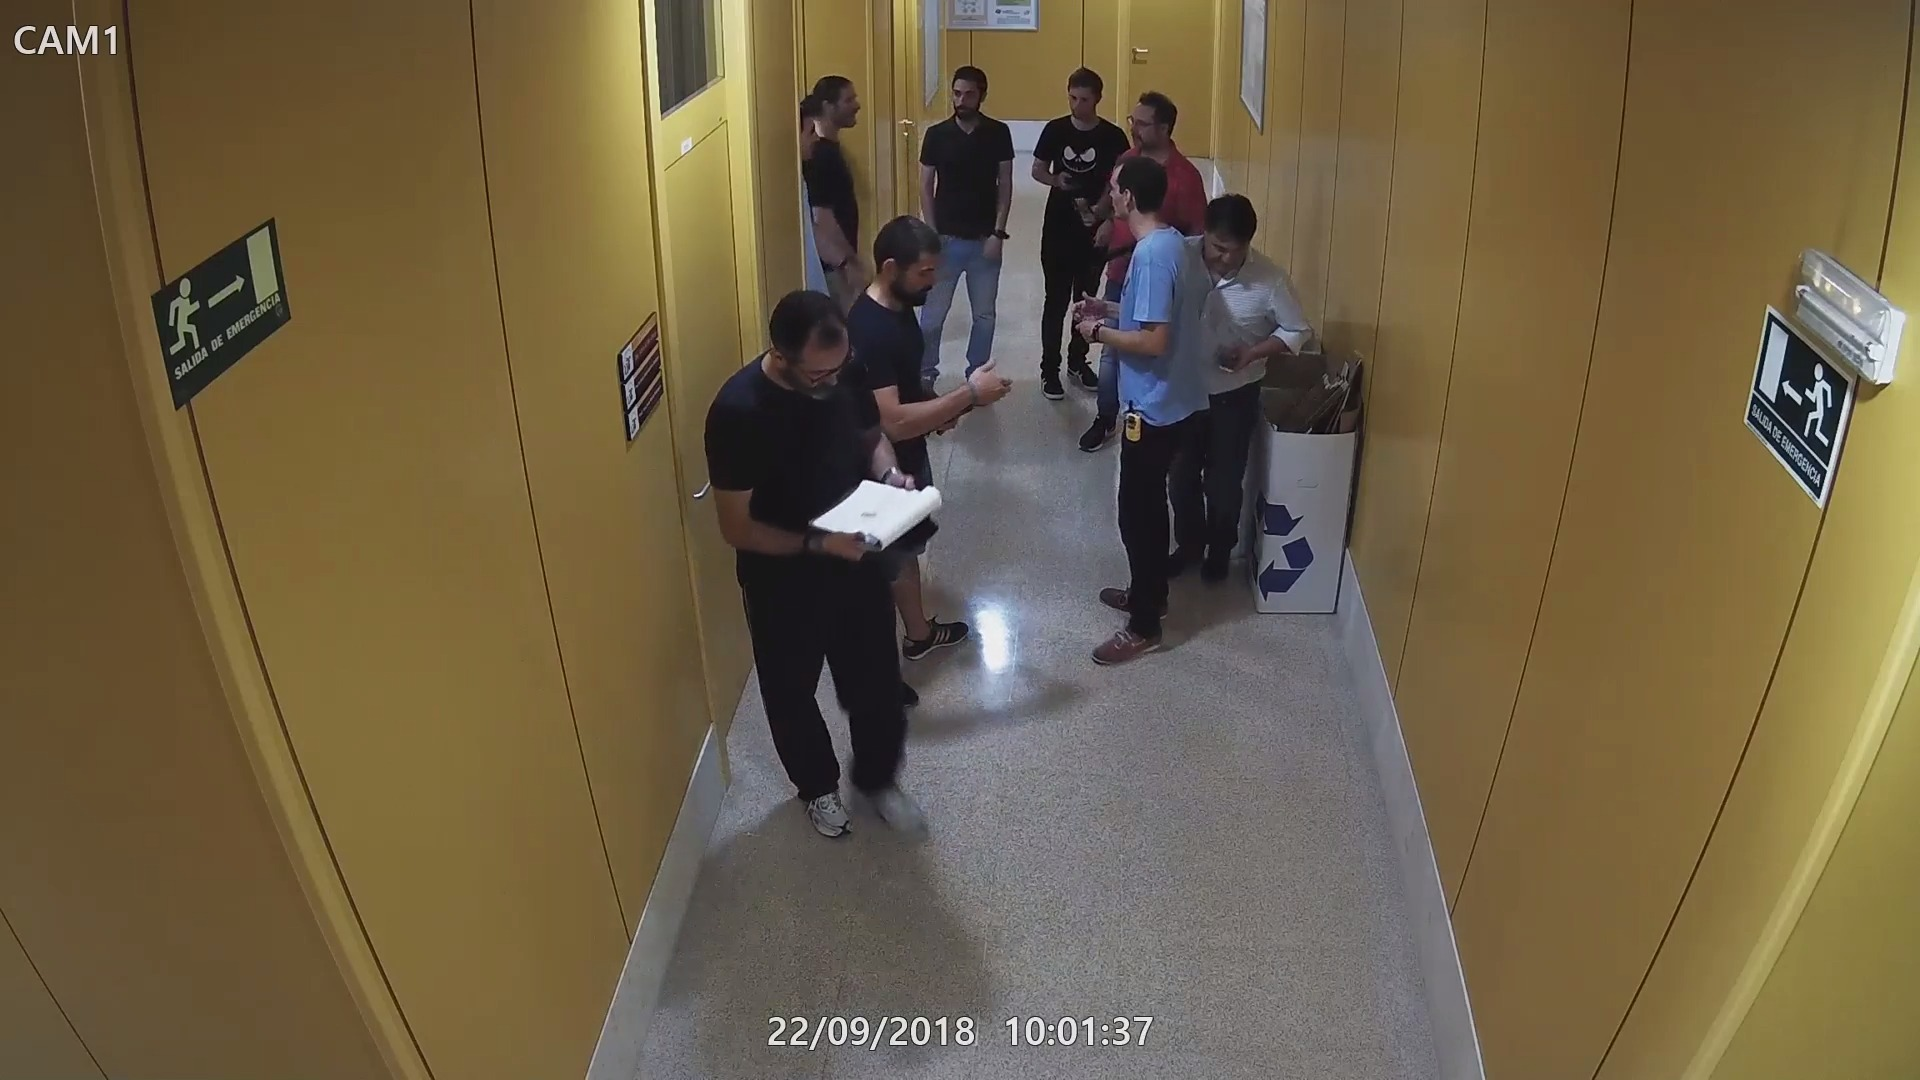Short_rifle: (1085, 216, 1197, 265)
